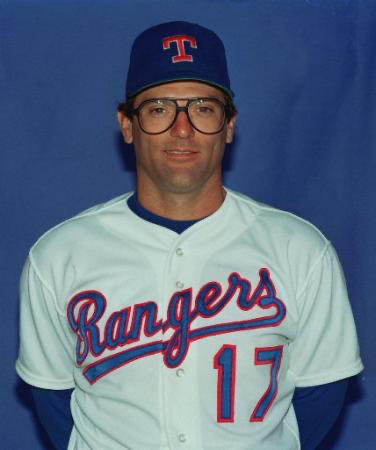Face: (130, 85, 234, 194)
